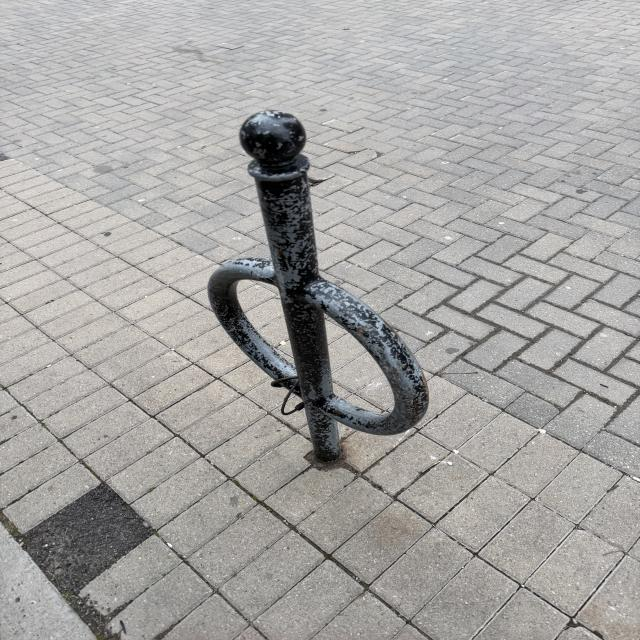Bicycle Rack: (207, 110, 427, 462)
